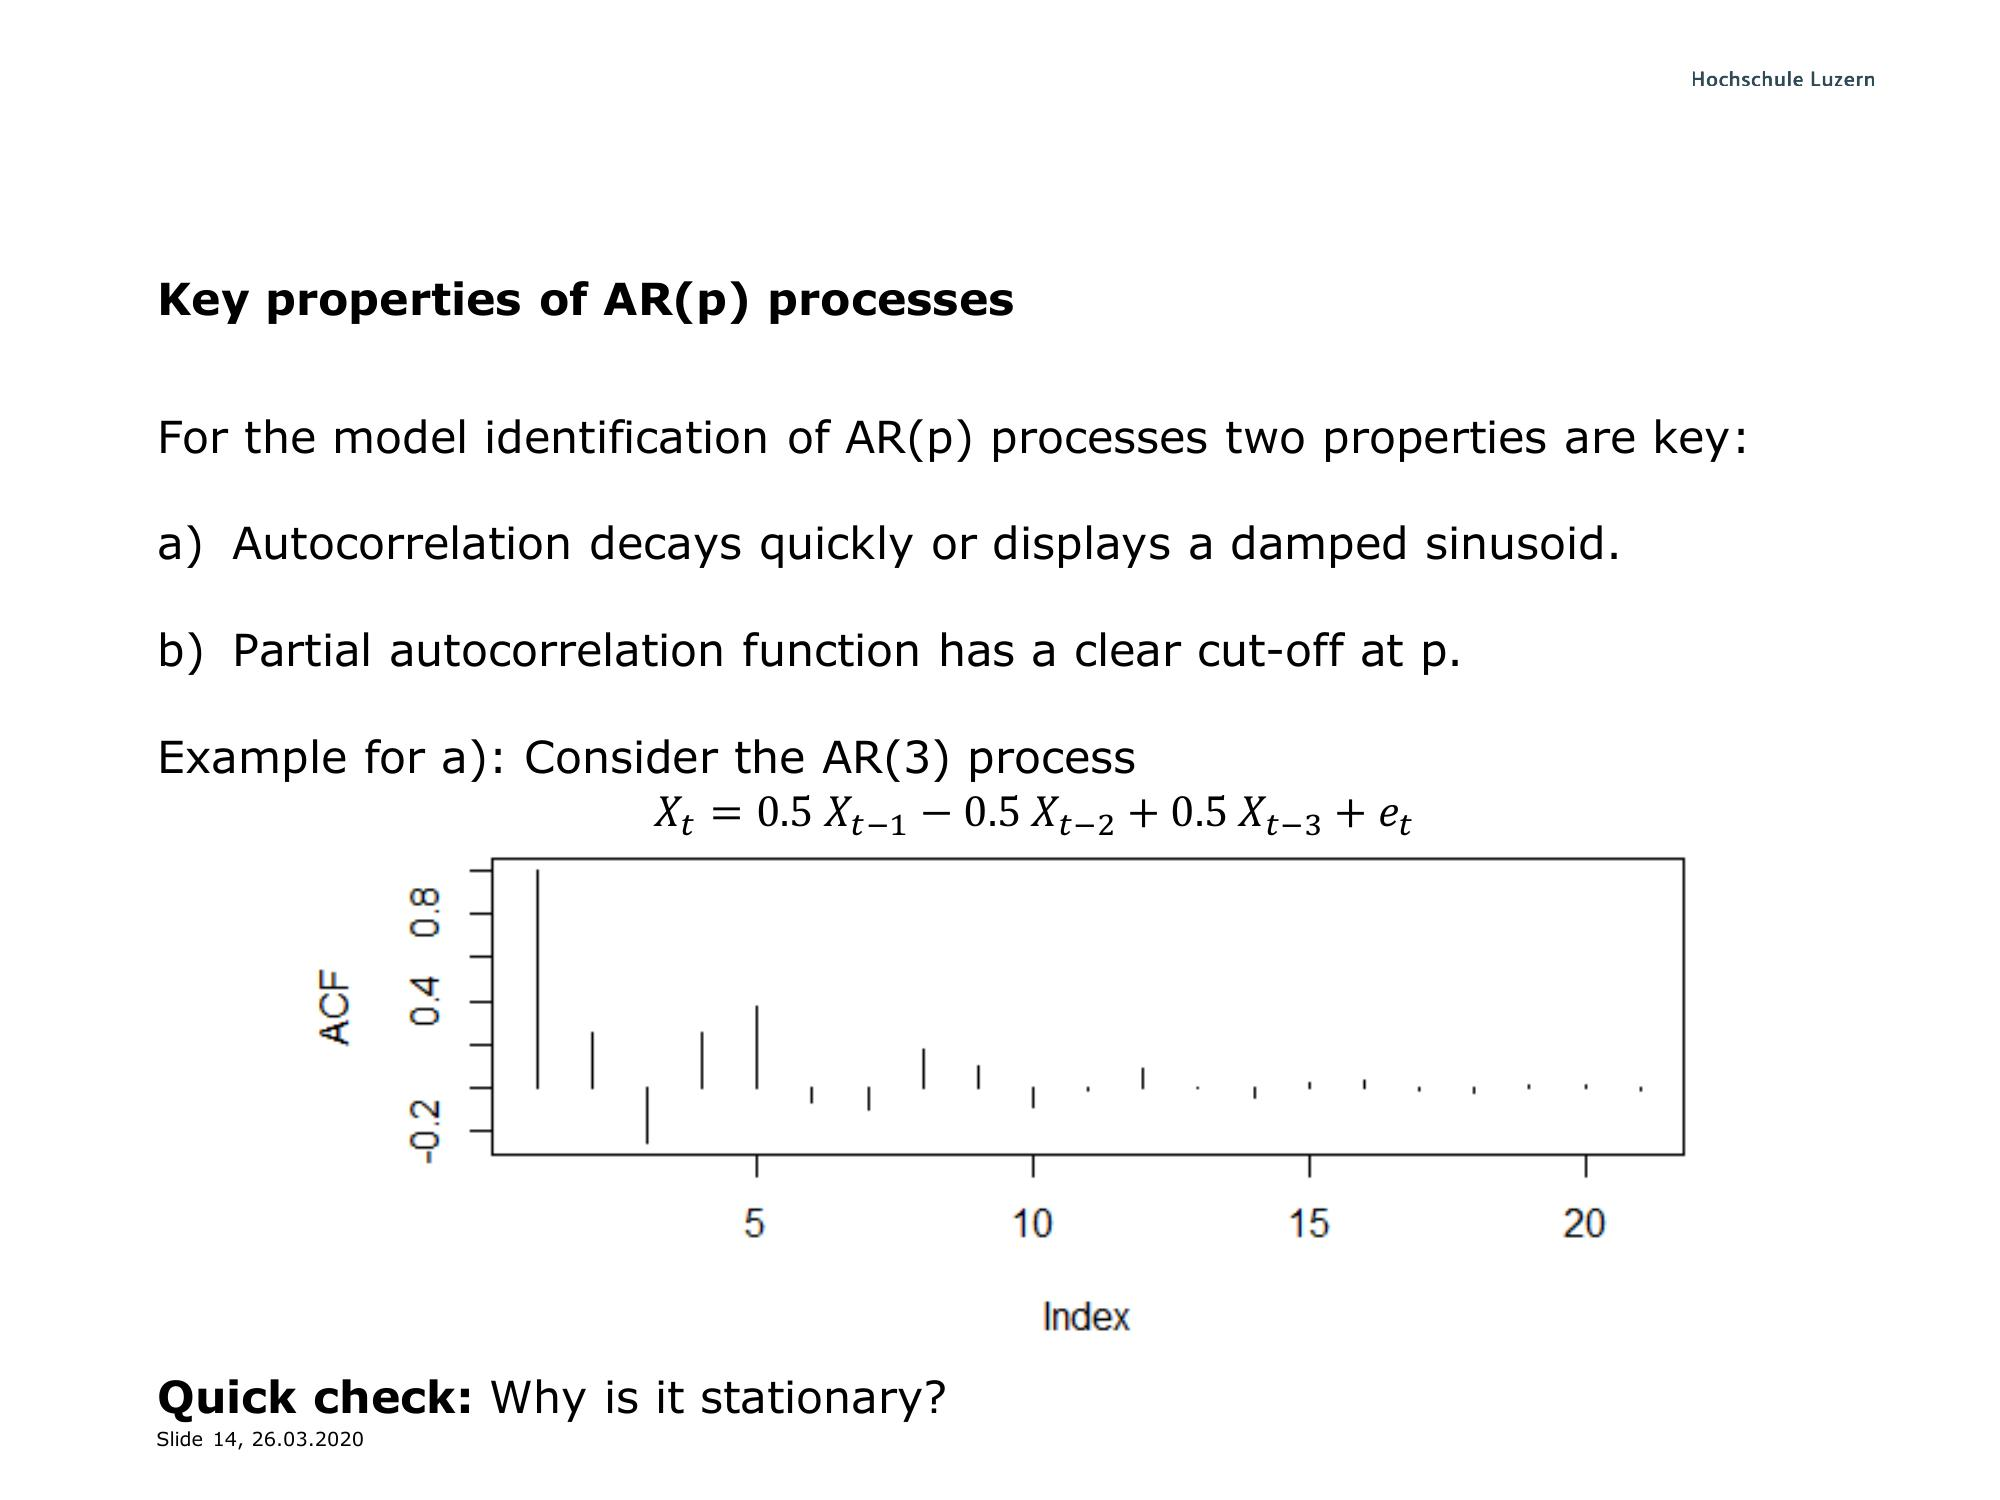Title: (135, 262, 1027, 339)
